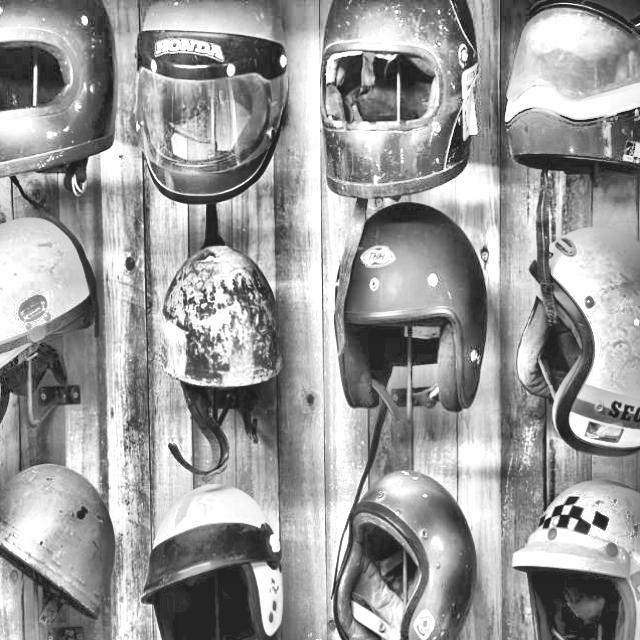Helmet: (331, 196, 492, 428), (129, 0, 293, 216), (135, 481, 288, 640)
